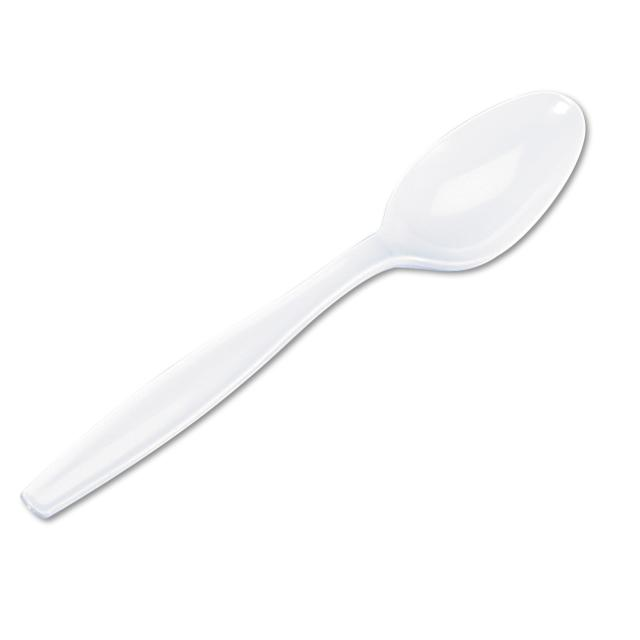spoon: (0, 70, 608, 523)
